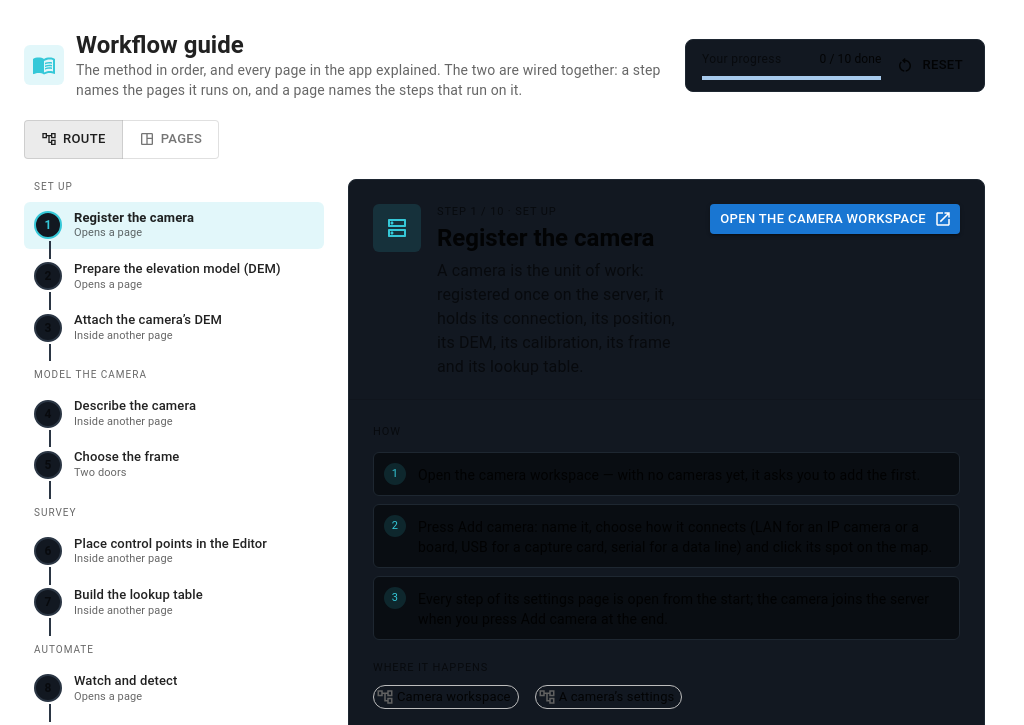
Test: the Pages view — what every page is responsible for › ★ every card says what its page is RESPONSIBLE for — not what it looks like
The image size is (1024, 725).
Click the button "Pages": (170, 139) [122,120,219,159]
(page scrolled)
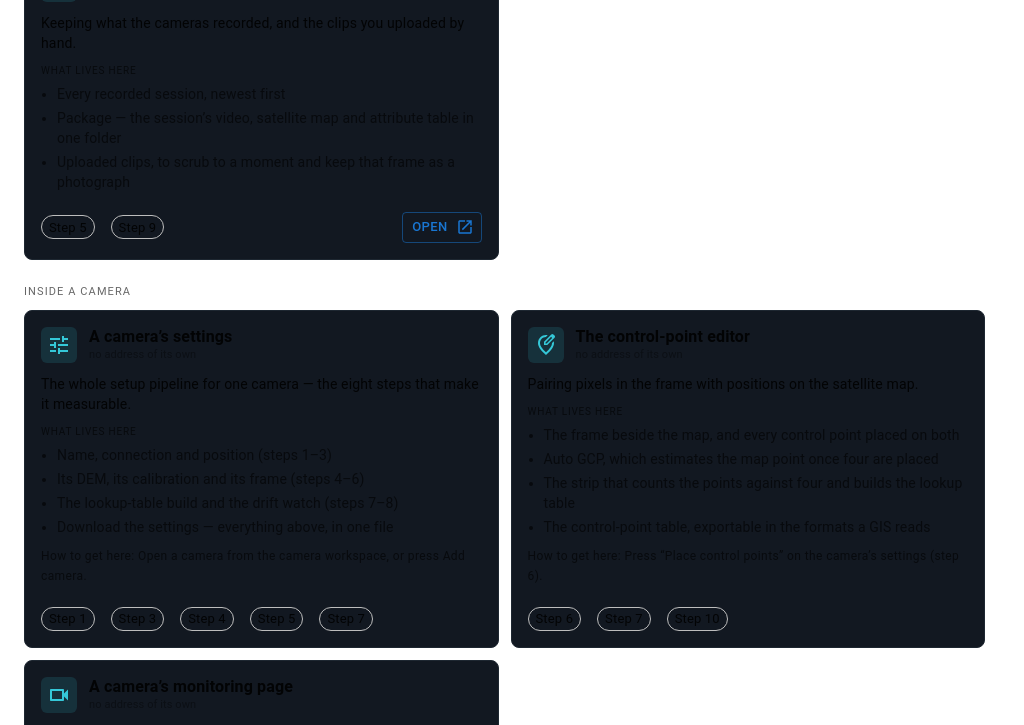
Expected: the text "Pairing pixels in the frame with positions on the satellite map" is shown, [528,376,918,392]
